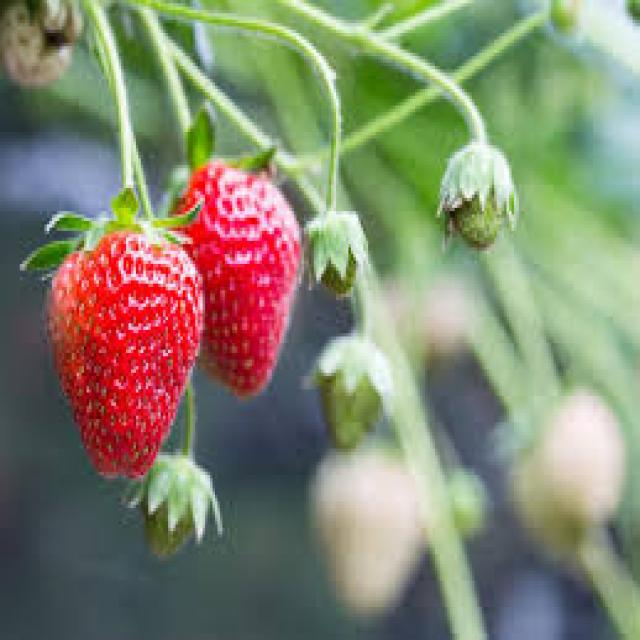strawberry: (27, 198, 193, 481), (159, 166, 306, 401)
